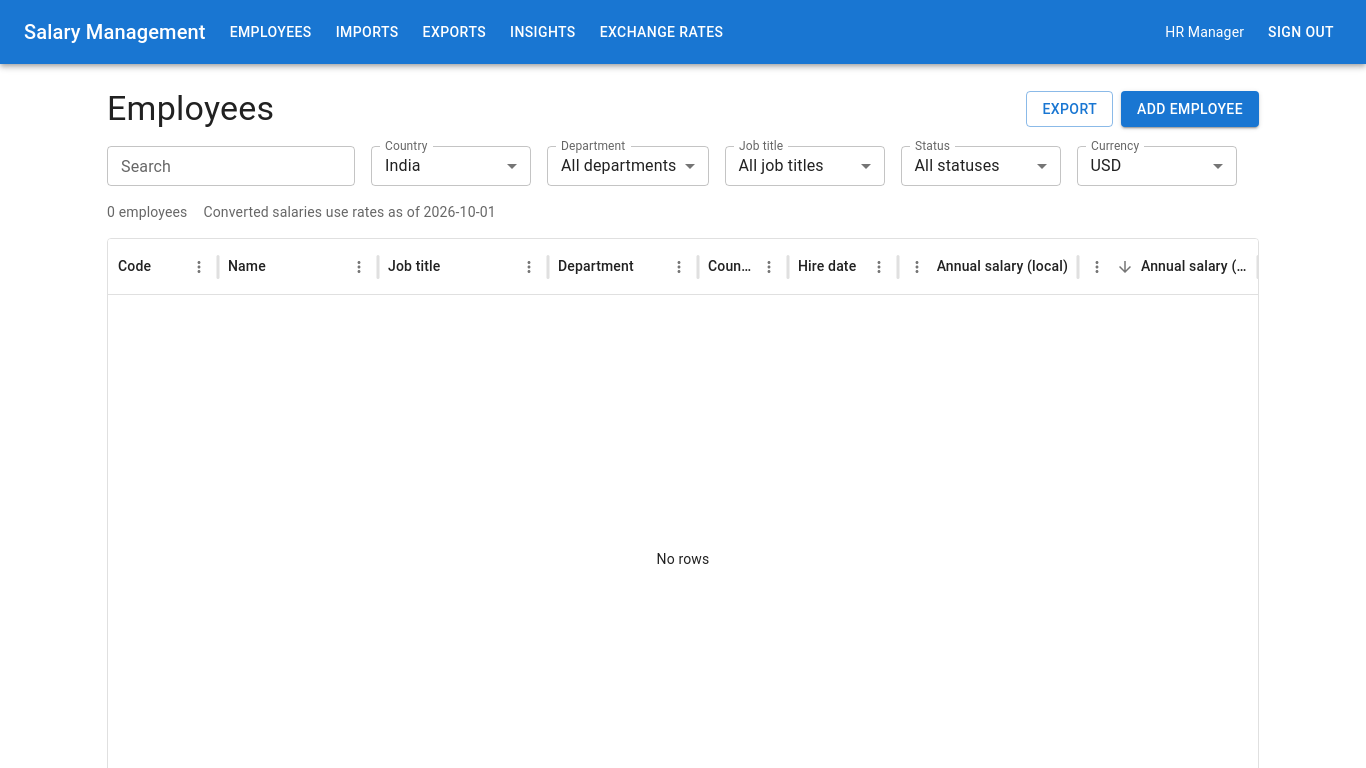
Scenario: export menu on the employees list › offers to email a PDF that is too large, to your own address
The image size is (1366, 768).
Click the button "Export" at (1070, 109), box [1026,91,1113,127]
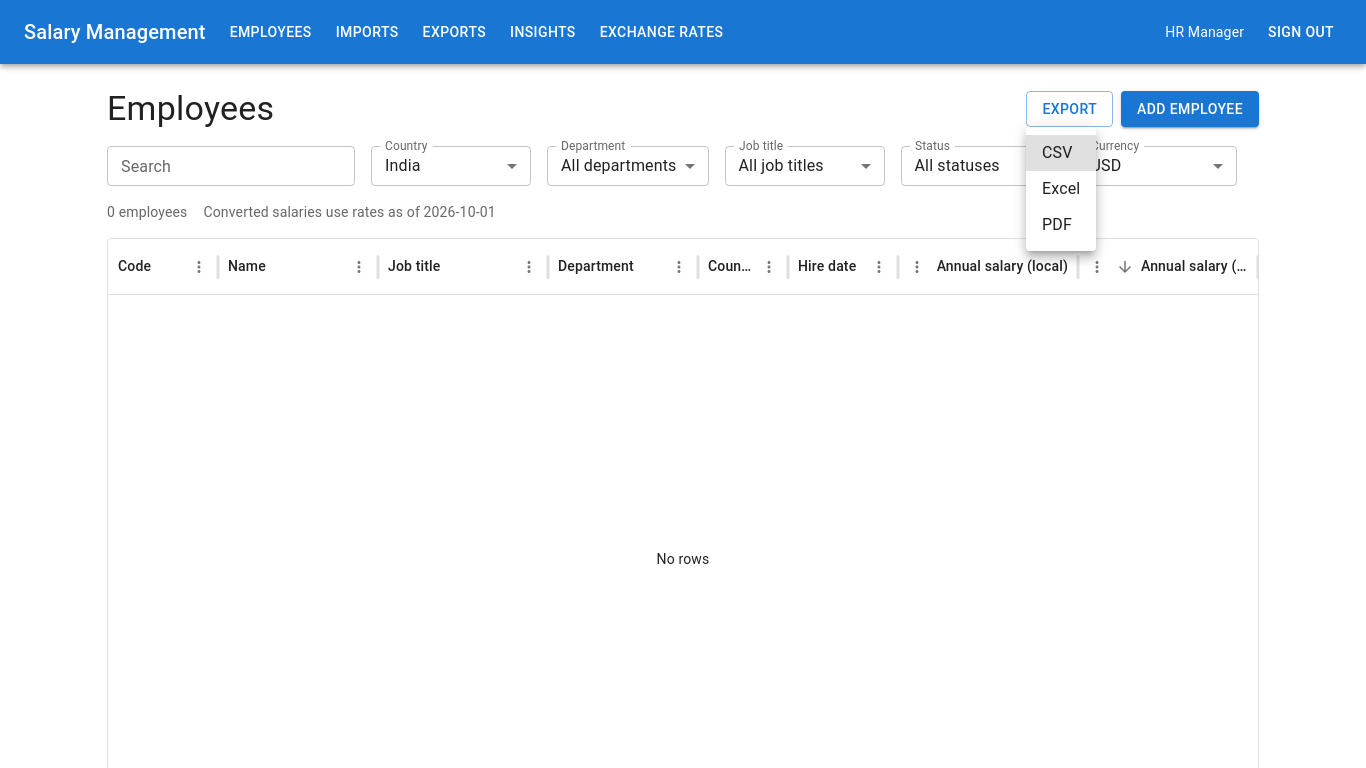
Click the menu item "PDF" at (1057, 224), box [1042,215,1072,234]
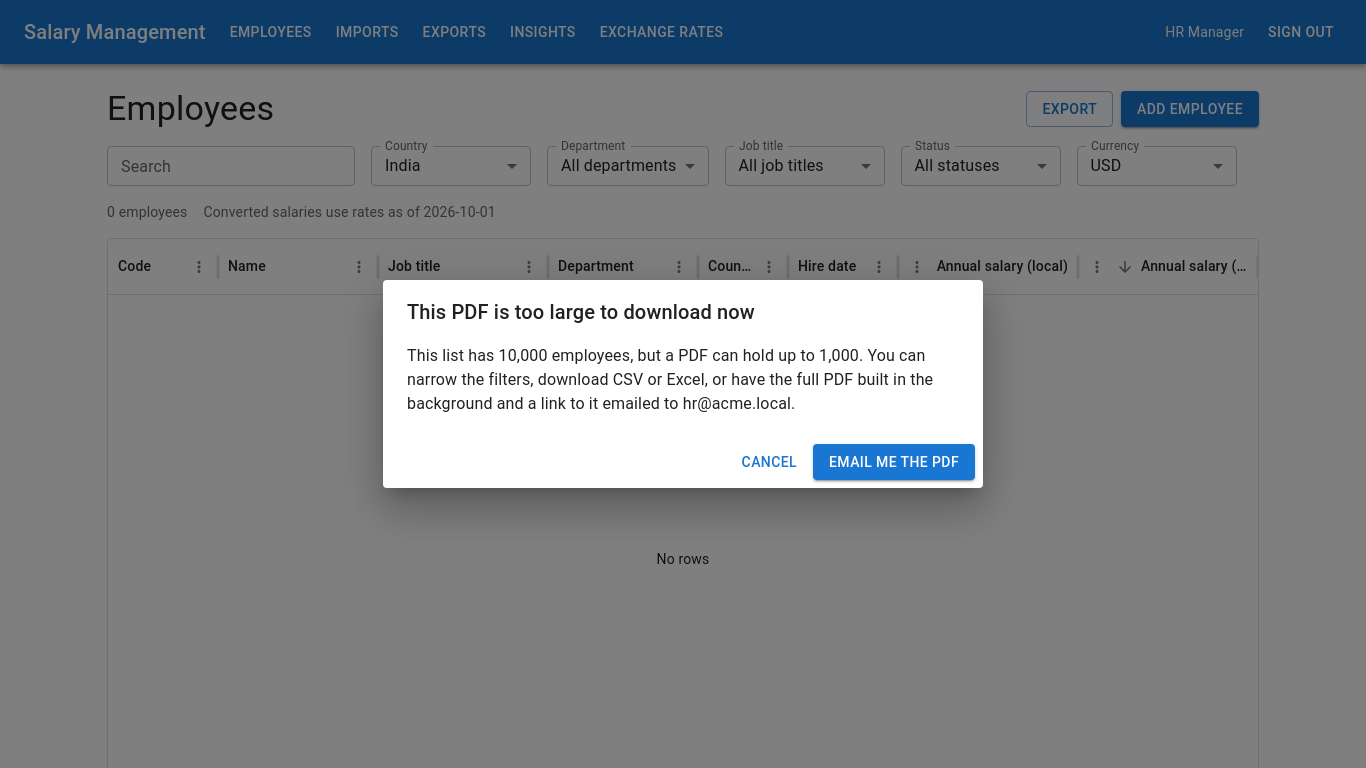
Result: the dialog shows "This list has 10,000 employees, but a PDF can hold up to 1,000." at [383,280,983,488]
Result: the dialog shows "hr@acme.local" at [683,394,791,413]
Click the button "Email me the PDF" at (894, 462), box [813,444,975,480]
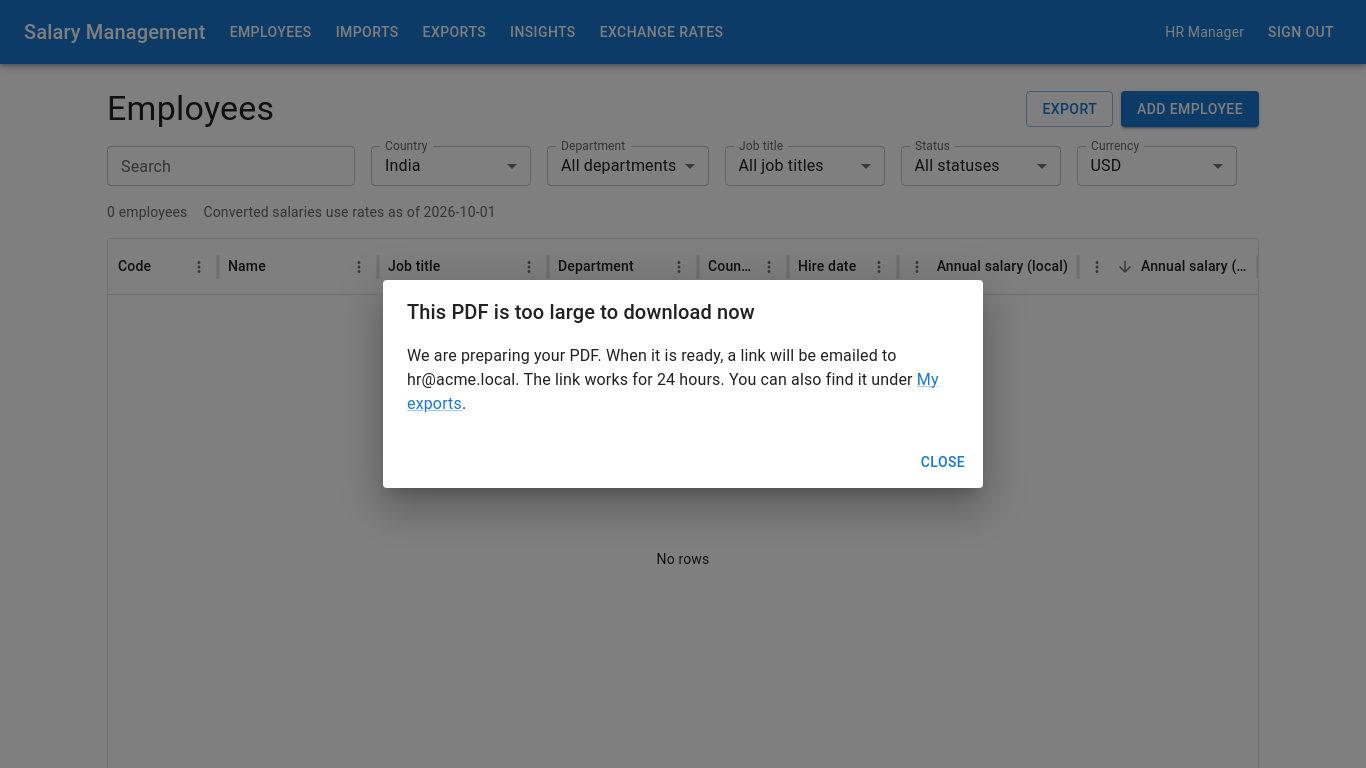
Result: the text "We are preparing your PDF" is shown at [407,346,896,365]
